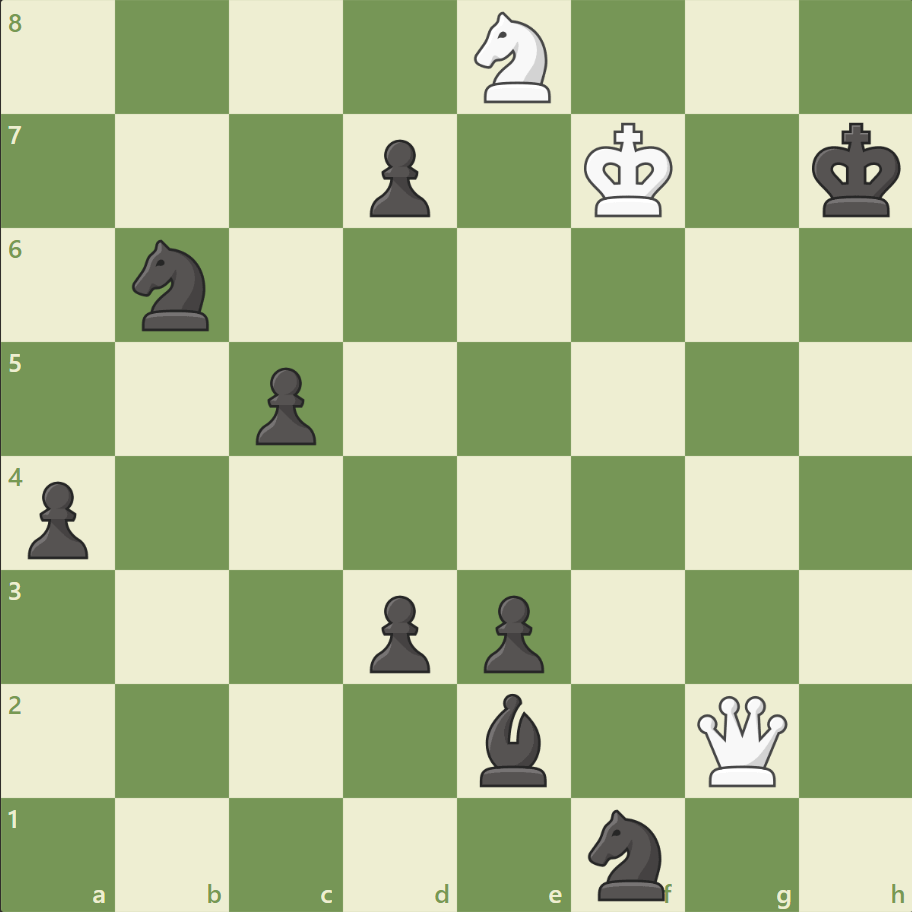K: (579, 117, 679, 225)
N: (465, 7, 562, 110)
Q: (691, 690, 790, 789)
b: (471, 687, 555, 790)
k: (806, 117, 906, 225)
n: (124, 234, 222, 337), (579, 802, 676, 904)
p: (247, 359, 322, 450), (20, 473, 95, 564), (474, 586, 549, 677), (361, 132, 435, 223), (361, 586, 435, 677)
